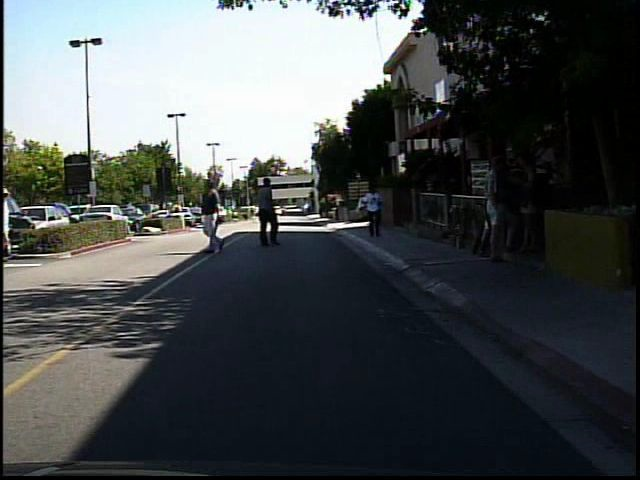person: (478, 148, 518, 265), (510, 152, 541, 258), (252, 173, 288, 250), (197, 174, 230, 256), (360, 178, 389, 240), (3, 182, 24, 263), (169, 196, 184, 228), (245, 200, 261, 225)
